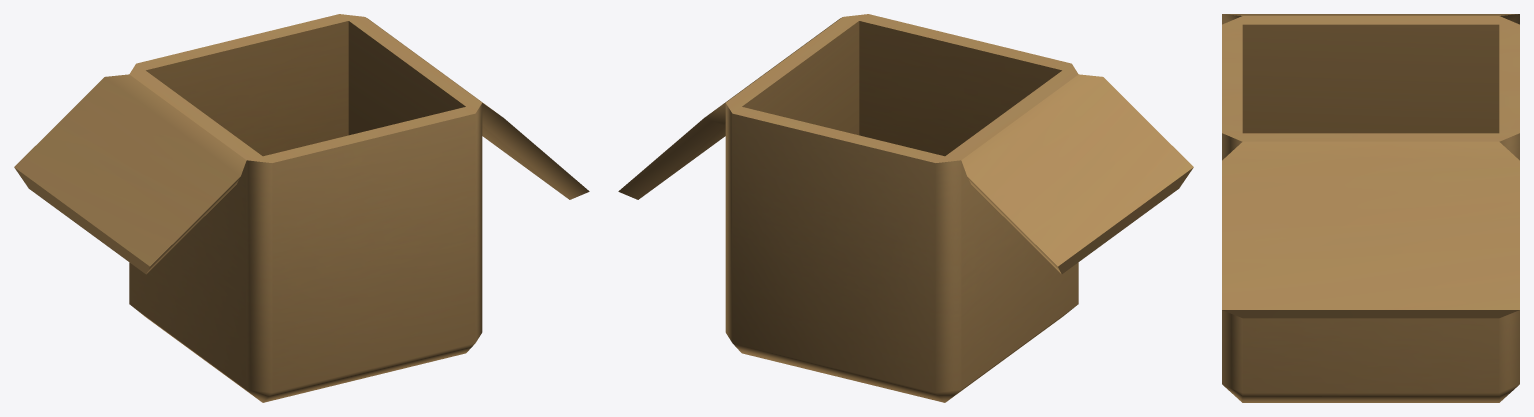
Rendered from box_cardboard_square_open_flaps.fbx.
The picture shows the model from 3 angles, left to right: view 1: azimuth 30°, elevation 25°; view 2: azimuth 150°, elevation 25°; view 3: azimuth 270°, elevation 25°; orthographic projection. The views are drawn at different scales.
Visible parts, largest first — view 1: box_cardboard_square_open_flaps; view 2: box_cardboard_square_open_flaps; view 3: box_cardboard_square_open_flaps.
Boxes of the visible parts, bbox=[...] form: box_cardboard_square_open_flaps: bbox=[14, 14, 589, 402]; box_cardboard_square_open_flaps: bbox=[618, 14, 1193, 402]; box_cardboard_square_open_flaps: bbox=[1222, 14, 1519, 402].
Bounding box in the file's own units: 100 × 53.69 × 53.69.
